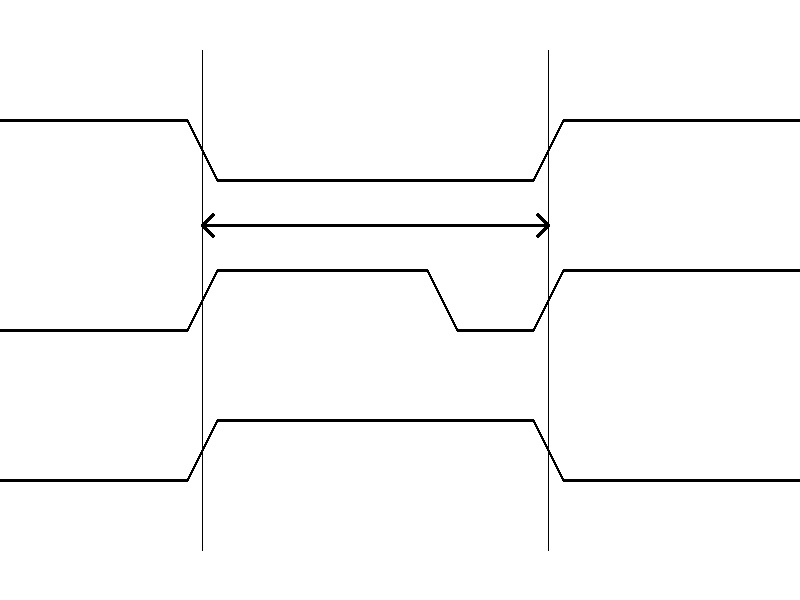double_arrow: (202, 210, 548, 240)
